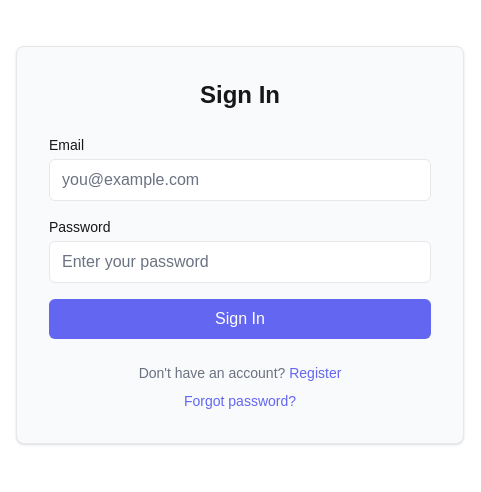
LoginPage › displays error for invalid credentials (401)
Type "bad@test.com" into the field labelled "Email" at [240, 180], box [49, 159, 431, 201]
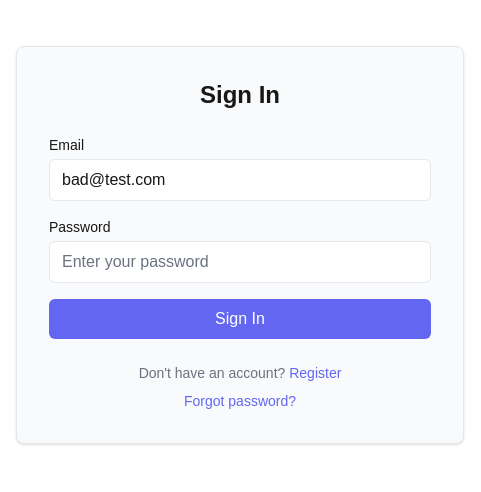
Type "wrong" into the password field labelled "Password" at [240, 262], box [49, 241, 431, 283]
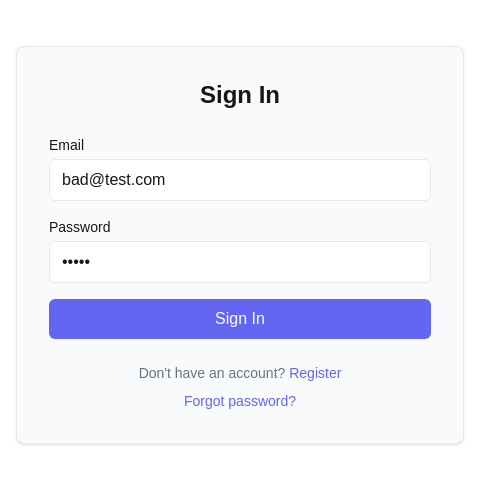
Click the button "Sign In" at [240, 319], box [49, 299, 431, 339]
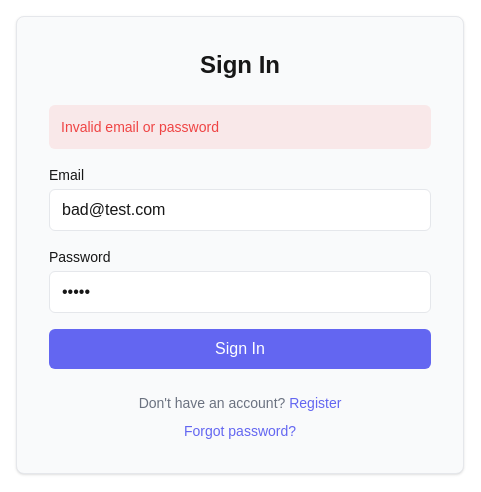
Expected: the text "Invalid email or password" is shown, [49, 105, 431, 149]
